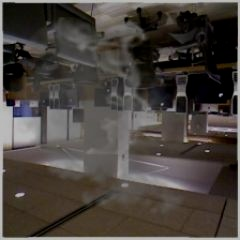smoke: (78, 22, 147, 180)
